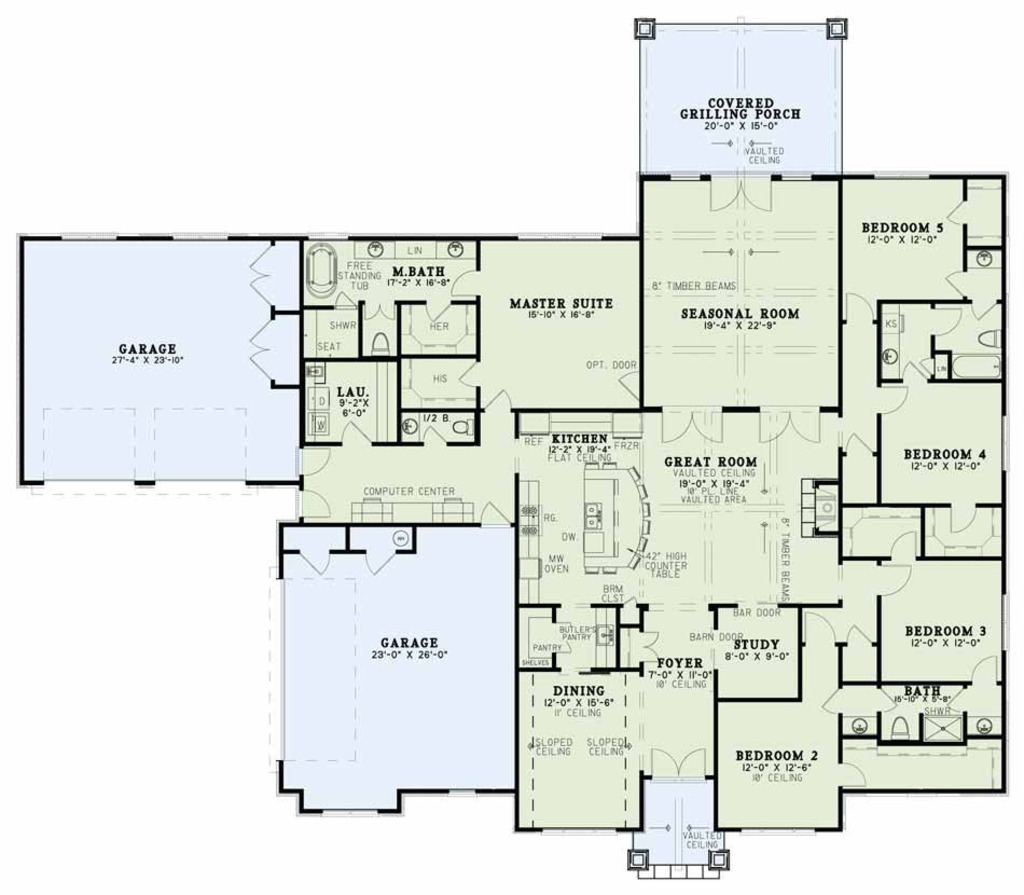door: (243, 314, 294, 395), (711, 171, 782, 213), (758, 405, 821, 446), (247, 242, 286, 308), (654, 408, 723, 445), (648, 744, 711, 783), (443, 267, 497, 302), (869, 560, 914, 601), (334, 416, 376, 456), (883, 531, 923, 569), (816, 680, 851, 721), (483, 383, 522, 419), (929, 302, 966, 339), (876, 381, 914, 417), (800, 613, 837, 649), (298, 441, 332, 478), (293, 479, 327, 516), (841, 289, 875, 323), (943, 266, 975, 302), (296, 542, 333, 573), (639, 630, 665, 674), (965, 652, 1004, 680), (872, 678, 902, 714), (830, 759, 873, 784), (618, 370, 652, 401), (946, 502, 980, 533), (411, 296, 451, 321), (479, 499, 509, 530), (364, 545, 396, 574), (905, 362, 940, 388), (946, 198, 973, 230), (843, 430, 875, 456), (968, 296, 1001, 321), (419, 427, 450, 451), (944, 687, 971, 713), (362, 301, 397, 320), (844, 627, 875, 645), (619, 598, 654, 613)
kitchen_bar: (573, 455, 659, 584)
large_sink: (977, 324, 1012, 353), (447, 408, 473, 444), (365, 331, 401, 356), (887, 719, 921, 745)
sink: (589, 610, 615, 659)
small_sink: (351, 238, 479, 262), (972, 249, 1007, 269), (880, 345, 902, 374)
tub: (305, 237, 344, 310), (955, 349, 1005, 383)
twin_sink: (584, 503, 608, 535)
window: (997, 413, 1019, 495), (57, 223, 126, 248), (168, 224, 229, 252), (515, 231, 605, 246), (730, 823, 816, 838), (547, 821, 616, 833), (997, 592, 1009, 655), (865, 173, 930, 183), (440, 783, 479, 799), (323, 809, 384, 819)
